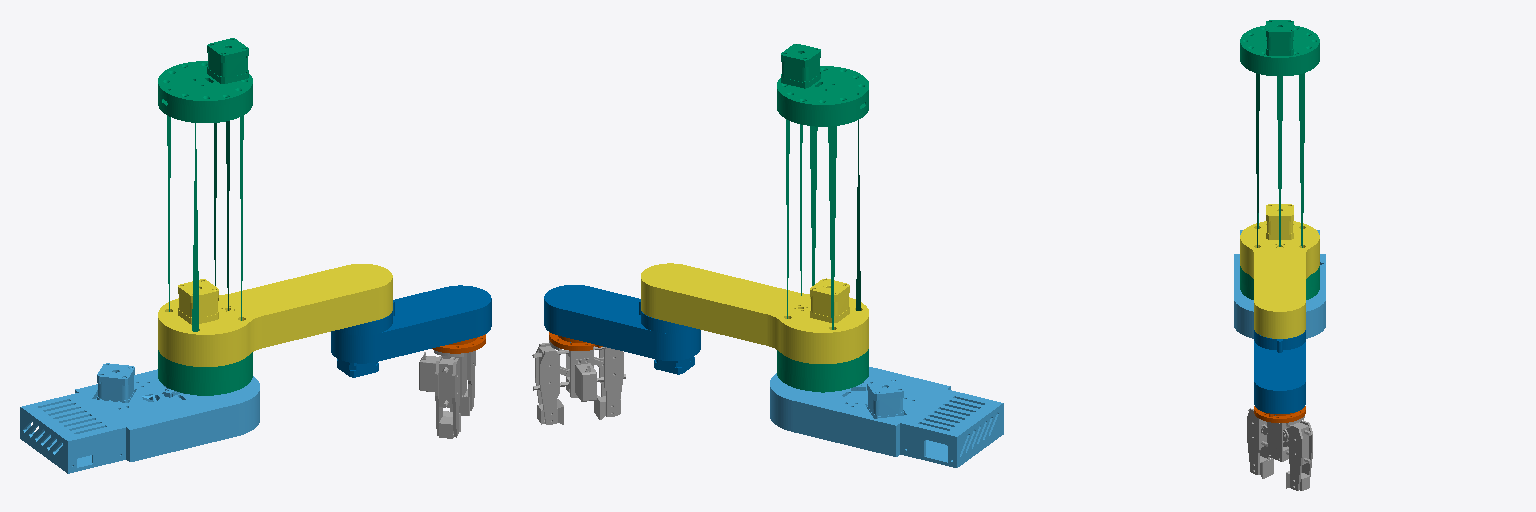
The robot description file, URDF, robot "agribot_scara":
<?xml version="1.0"?>
<!--
  AgriBOT robot description. Generated by tools/description/write_urdf.py from
  measured and estimated data; edit the generator, not this file.
  SCARA alone, fixed to the world, with the stock gripper.
-->
<robot name="agribot_scara">
  <link name="world"/>
  <joint name="world_mount" type="fixed">
    <parent link="world"/>
    <child link="base_link"/>
    <origin xyz="0 0 0" rpy="0 0 0"/>
  </joint>
  <link name="base_link">
    <inertial>
      <!-- estimate: mesh volumes x effective density: printed 560 kg/m3, metal 7850 kg/m3, motor 3800 kg/m3, belt 1200 kg/m3, switch 1500 kg/m3. Estimates; weigh the real parts. -->
      <origin xyz="-0.0712791 0.00956844 0.0371431" rpy="0 0 0"/>
      <mass value="0.833682"/>
      <inertia ixx="0.00124008" ixy="0.000315526" ixz="0.000159535" iyy="0.00418148" iyz="-0.000150768" izz="0.00491594"/>
    </inertial>
    <visual>
      <origin xyz="0 0 0" rpy="0 0 0"/>
      <geometry><mesh filename="package://agribot_description/meshes/scara/visual/base_link.obj"/></geometry>
    </visual>
    <collision>
      <geometry><mesh filename="package://agribot_description/meshes/scara/collision/base_link.stl"/></geometry>
    </collision>
  </link>
  <link name="column_link">
    <inertial>
      <!-- estimate: mesh volumes x effective density: printed 560 kg/m3, metal 7850 kg/m3, motor 3800 kg/m3, belt 1200 kg/m3, switch 1500 kg/m3. Estimates; weigh the real parts. -->
      <origin xyz="0.00742286 3.44212e-06 0.228887" rpy="0 0 0"/>
      <mass value="1.80729"/>
      <inertia ixx="0.0462066" ixy="-1.87405e-09" ixz="-0.00165238" iyy="0.0465499" iyz="-1.66436e-07" izz="0.00324059"/>
    </inertial>
    <visual>
      <origin xyz="0 0 0" rpy="0 0 0"/>
      <geometry><mesh filename="package://agribot_description/meshes/scara/visual/column_link.obj"/></geometry>
    </visual>
    <collision>
      <geometry><mesh filename="package://agribot_description/meshes/scara/collision/column_link.stl"/></geometry>
    </collision>
  </link>
  <link name="carriage_link">
    <inertial>
      <!-- estimate: mesh volumes x effective density: printed 560 kg/m3, metal 7850 kg/m3, motor 3800 kg/m3, belt 1200 kg/m3, switch 1500 kg/m3. Estimates; weigh the real parts. -->
      <origin xyz="0.0811465 -8.9567e-07 0.0295613" rpy="0 0 0"/>
      <mass value="0.946238"/>
      <inertia ixx="0.0011079" ixy="7.57917e-07" ixz="0.00164601" iyy="0.0110148" iyz="-3.88306e-07" izz="0.0109244"/>
    </inertial>
    <visual>
      <origin xyz="0 0 0" rpy="0 0 0"/>
      <geometry><mesh filename="package://agribot_description/meshes/scara/visual/carriage_link.obj"/></geometry>
    </visual>
    <collision>
      <geometry><mesh filename="package://agribot_description/meshes/scara/collision/carriage_link.stl"/></geometry>
    </collision>
  </link>
  <link name="arm2_link">
    <inertial>
      <!-- estimate: mesh volumes x effective density: printed 560 kg/m3, metal 7850 kg/m3, motor 3800 kg/m3, belt 1200 kg/m3, switch 1500 kg/m3. Estimates; weigh the real parts. -->
      <origin xyz="0.0691927 8.7085e-07 -0.0313833" rpy="0 0 0"/>
      <mass value="0.569879"/>
      <inertia ixx="0.000428514" ixy="2.76917e-07" ixz="-4.59967e-05" iyy="0.00300115" iyz="-2.11427e-07" izz="0.00292892"/>
    </inertial>
    <visual>
      <origin xyz="0 0 0" rpy="0 0 0"/>
      <geometry><mesh filename="package://agribot_description/meshes/scara/visual/arm2_link.obj"/></geometry>
    </visual>
    <collision>
      <geometry><mesh filename="package://agribot_description/meshes/scara/collision/arm2_link.stl"/></geometry>
    </collision>
  </link>
  <link name="wrist_link">
    <inertial>
      <!-- estimate: mesh volumes x effective density: printed 560 kg/m3, metal 7850 kg/m3, motor 3800 kg/m3, belt 1200 kg/m3, switch 1500 kg/m3. Estimates; weigh the real parts. -->
      <origin xyz="0.000443116 -0.000165271 -7.39752e-05" rpy="0 0 0"/>
      <mass value="0.0372179"/>
      <inertia ixx="1.9538e-05" ixy="-2.60341e-08" ixz="1.66016e-07" iyy="1.94947e-05" iyz="-7.77842e-08" izz="2.00665e-05"/>
    </inertial>
    <visual>
      <origin xyz="0 0 0" rpy="0 0 0"/>
      <geometry><mesh filename="package://agribot_description/meshes/scara/visual/wrist_link.obj"/></geometry>
    </visual>
    <collision>
      <geometry><mesh filename="package://agribot_description/meshes/scara/collision/wrist_link.stl"/></geometry>
    </collision>
  </link>
  <link name="tool_flange"/>
  <joint name="j1" type="revolute">
    <!-- limits: assumed; set from the J1 home switch and cabling; effort/velocity: estimate -->
    <parent link="base_link"/>
    <child link="column_link"/>
    <origin xyz="0 0 0.035" rpy="0 0 0"/>
    <axis xyz="0 0 1"/>
    <limit lower="-2.96706" upper="2.96706" effort="2" velocity="1"/>
    <dynamics damping="0.5" friction="0.05"/>
  </joint>
  <joint name="z" type="prismatic">
    <!-- limits: part clearances in the STEP: platform on base cover, J2 motor at the Z top limit switch; effort/velocity: estimate -->
    <parent link="column_link"/>
    <child link="carriage_link"/>
    <origin xyz="0 0 0.0625" rpy="0 0 0"/>
    <axis xyz="0 0 1"/>
    <limit lower="0" upper="0.249" effort="100" velocity="0.1"/>
    <dynamics damping="2" friction="0.2"/>
  </joint>
  <joint name="j2" type="revolute">
    <!-- limits: assumed; check Arm 2 against the column; effort/velocity: estimate -->
    <parent link="carriage_link"/>
    <child link="arm2_link"/>
    <origin xyz="0.227977 0 -0.019" rpy="0 0 0"/>
    <axis xyz="0 0 1"/>
    <limit lower="-2.61799" upper="2.61799" effort="3" velocity="1.2"/>
    <dynamics damping="0.3" friction="0.05"/>
  </joint>
  <joint name="j3" type="revolute">
    <!-- limits: assumed; keeps the tool cables from winding up; effort/velocity: estimate -->
    <parent link="arm2_link"/>
    <child link="wrist_link"/>
    <origin xyz="0.136488 0 -0.039" rpy="0 0 0"/>
    <axis xyz="0 0 1"/>
    <limit lower="-2.61799" upper="2.61799" effort="0.8" velocity="2"/>
    <dynamics damping="0.05" friction="0.01"/>
  </joint>
  <joint name="tool_flange_joint" type="fixed">
    <!-- J3 coupler underside; tools bolt on here -->
    <parent link="wrist_link"/>
    <child link="tool_flange"/>
    <origin xyz="0 0 -0.018" rpy="0 0 0"/>
  </joint>
  <link name="stock_gripper">
    <inertial>
      <!-- estimate from mesh volumes -->
      <origin xyz="-0.0091636 0.00862731 -0.047921" rpy="0 0 0"/>
      <mass value="0.255159"/>
      <inertia ixx="0.00025594" ixy="-5.56302e-05" ixz="-3.44136e-06" iyy="0.000248573" iyz="3.42056e-06" izz="0.000235372"/>
    </inertial>
    <visual>
      <origin xyz="0 0 0" rpy="0 0 0"/>
      <geometry><mesh filename="package://agribot_description/meshes/scara/visual/stock_gripper.obj"/></geometry>
    </visual>
    <collision>
      <geometry><mesh filename="package://agribot_description/meshes/scara/collision/stock_gripper.stl"/></geometry>
    </collision>
  </link>
  <link name="tool0"/>
  <joint name="stock_gripper_mount" type="fixed">
    <parent link="tool_flange"/>
    <child link="stock_gripper"/>
    <origin xyz="0 0 0" rpy="0 0 0"/>
  </joint>
  <joint name="stock_gripper_tool0" type="fixed">
    <!-- bottom of the gripper fingers -->
    <parent link="stock_gripper"/>
    <child link="tool0"/>
    <origin xyz="0 0 -0.115" rpy="0 0 0"/>
  </joint>
</robot>

--- Facts derived from the render (not from the file) ---
3 views of the same robot in one strip: view 1: azimuth 30°, elevation 25°; view 2: azimuth 150°, elevation 25°; view 3: azimuth 270°, elevation 25° (orthographic).
Model agribot_scara with 9 links and 8 joints (3 revolute, 1 prismatic, 4 fixed), rooted at world, posed every joint at zero.
Links seen in each view (by area): view 1: base_link, carriage_link, column_link, arm2_link, stock_gripper, wrist_link; view 2: base_link, carriage_link, column_link, arm2_link, stock_gripper; view 3: carriage_link, column_link, arm2_link, stock_gripper, base_link.
Link boxes in pixels (<box>): base_link: <box>20,363,259,473</box>; carriage_link: <box>158,264,392,366</box>; column_link: <box>158,38,252,395</box>; arm2_link: <box>331,285,491,377</box>; stock_gripper: <box>419,350,475,438</box>; wrist_link: <box>432,334,485,353</box>; base_link: <box>770,367,1003,467</box>; carriage_link: <box>641,263,868,363</box>; column_link: <box>777,44,868,392</box>; arm2_link: <box>544,285,700,374</box>; stock_gripper: <box>532,340,625,424</box>; carriage_link: <box>1240,204,1319,338</box>; column_link: <box>1240,20,1319,299</box>; arm2_link: <box>1254,330,1305,415</box>; stock_gripper: <box>1247,408,1312,490</box>; base_link: <box>1234,230,1325,338</box>.
Bounding box of the posed robot: 0.6476 × 0.14 × 0.6015 m (x, y, z).
Meshes: 6 distinct files referenced, 6 mesh visuals loaded (6 OBJ).
